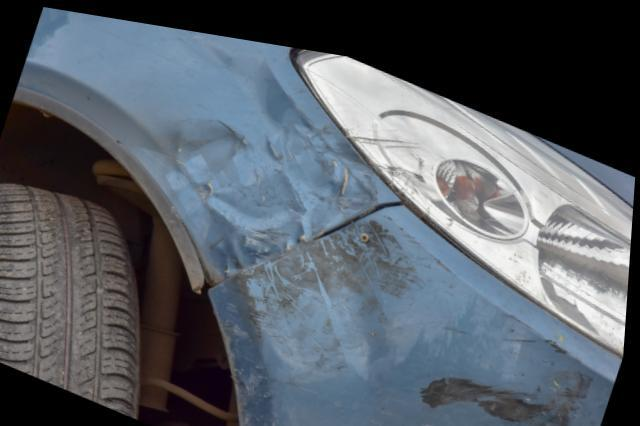dent: (157, 103, 380, 275), (245, 204, 436, 366)
scratch: (383, 305, 603, 426)
